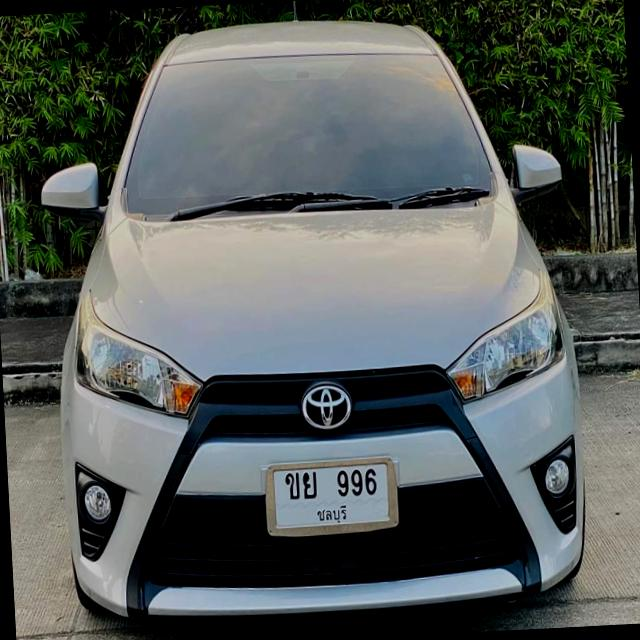license_plate: (262, 450, 405, 543)
